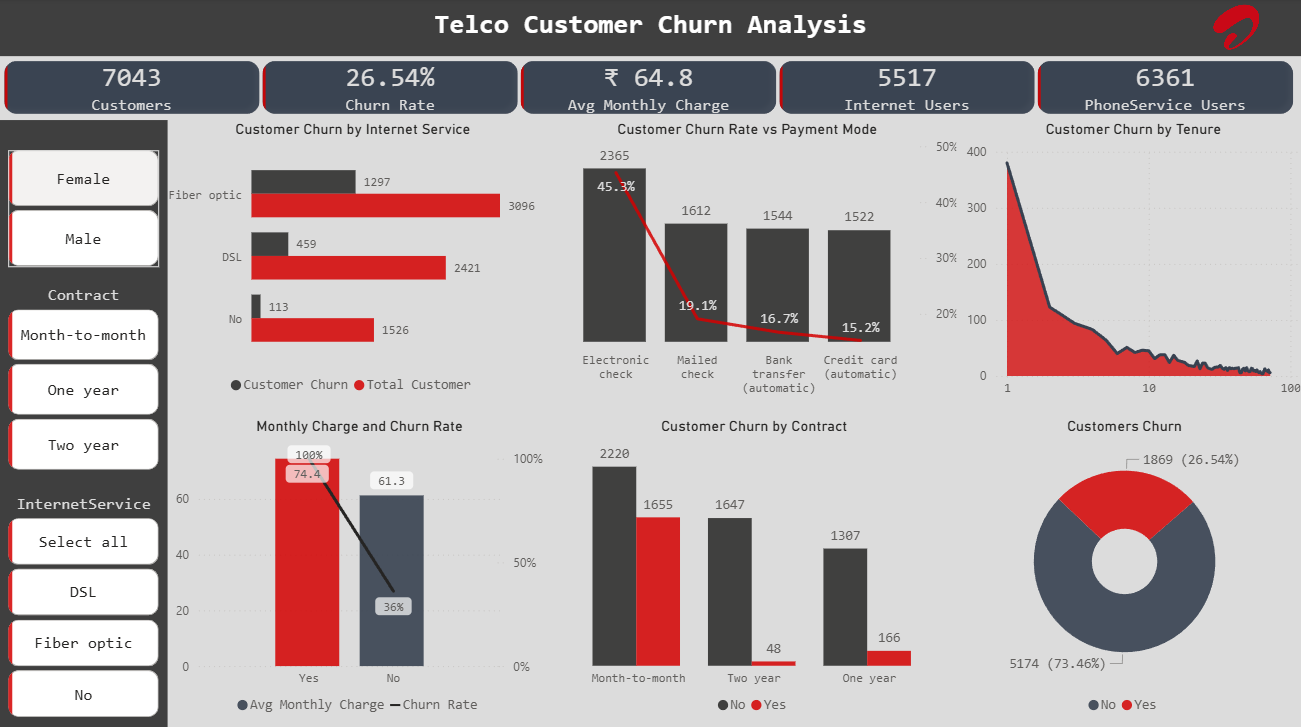

The page's visual inventory and layout, read from the dashboard file:
{"tool":"powerbi","page":{"name":"Dashboard","canvas":[1280,720],"ordinal":0},"visuals":[{"type":"shape","box":[0,120,165.7,600],"z":0},{"type":"shape","box":[0,0,1280,57.1],"z":1000},{"type":"textbox","box":[340.1,5.2,599.9,46.4],"z":2000},{"type":"cardVisual","fields":{"Data":["Count(Telco_Customer_Churn.customerID)","Telco_Customer_Churn.Churn_rate","Telco_Customer_Churn.Avg_Monthly_Charge","Telco_Customer_Churn.Internet_Users","Telco_Customer_Churn.PhoneService_user"]},"box":[0,57.1,1280,62.9],"z":3000},{"type":"clusteredBarChart","title":"Customer Churn by Internet Service","fields":{"Category":["Telco_Customer_Churn.InternetService"],"Y":["Telco_Customer_Churn.Total_Churn","CountNonNull(Telco_Customer_Churn.customerID)"]},"box":[165.7,120,365.7,274.3],"z":4000},{"type":"lineClusteredColumnComboChart","title":"Customer Churn Rate vs Payment Mode","fields":{"Category":["Telco_Customer_Churn.PaymentMethod"],"Y2":["Telco_Customer_Churn.Churn_rate"],"Y":["CountNonNull(Telco_Customer_Churn.customerID)"]},"box":[530.8,120.6,420.7,273.9],"z":5000},{"type":"clusteredColumnChart","title":"Customer Churn by Contract ","fields":{"Category":["Telco_Customer_Churn.Contract"],"Y":["CountNonNull(Telco_Customer_Churn.customerID)"],"Series":["Telco_Customer_Churn.Churn"]},"box":[537.6,411.5,408.6,297.1],"z":6000},{"type":"lineStackedColumnComboChart","title":"Monthly Charge and Churn Rate ","fields":{"Y":["Telco_Customer_Churn.Avg_Monthly_Charge"],"Y2":["Telco_Customer_Churn.Churn_rate"],"Category":["Telco_Customer_Churn.Churn"]},"box":[171.8,411.5,365.7,297.1],"z":7000},{"type":"advancedSlicerVisual","fields":{"Values":["Telco_Customer_Churn.InternetService"]},"box":[8.6,487.1,148.6,220],"z":8000},{"type":"advancedSlicerVisual","fields":{"Values":["Telco_Customer_Churn.Contract"]},"box":[8.6,282.9,148.6,182.9],"z":9000},{"type":"advancedSlicerVisual","fields":{"Values":["Telco_Customer_Churn.gender"]},"box":[8.6,150,148.6,114.3],"z":10000},{"type":"lineChart","fields":{"Category":["Telco_Customer_Churn.tenure"],"Y":["Telco_Customer_Churn.Total_Churn"]},"box":[951.4,120,328.6,274.3],"z":11000},{"type":"donutChart","title":"Customers Churn","fields":{"Category":["Telco_Customer_Churn.Churn"],"Y":["CountNonNull(Telco_Customer_Churn.customerID)"]},"box":[945.7,411.4,321.4,297.1],"z":12000},{"type":"image","box":[1153.4,0,126.4,56.8],"z":12001}]}

Visuals, with their boxes in screenshot pixels (x1, y1, x2, y2), scaled from the page's 1280x720 canvas onto the 1301x727 screenshot:
shape: (0, 121, 168, 726)
shape: (0, 0, 1300, 58)
textbox: (346, 5, 955, 52)
cardVisual - Count(Telco_Customer_Churn.customerID) x Telco_Customer_Churn.Churn_rate: (0, 58, 1300, 121)
"Customer Churn by Internet Service" clusteredBarChart: (168, 121, 540, 398)
"Customer Churn Rate vs Payment Mode" lineClusteredColumnComboChart: (540, 122, 967, 398)
"Customer Churn by Contract " clusteredColumnChart: (546, 416, 962, 715)
"Monthly Charge and Churn Rate " lineStackedColumnComboChart: (175, 416, 546, 715)
advancedSlicerVisual - Telco_Customer_Churn.InternetService: (9, 492, 160, 714)
advancedSlicerVisual - Telco_Customer_Churn.Contract: (9, 286, 160, 470)
advancedSlicerVisual - Telco_Customer_Churn.gender: (9, 151, 160, 267)
lineChart - Telco_Customer_Churn.tenure x Telco_Customer_Churn.Total_Churn: (967, 121, 1300, 398)
"Customers Churn" donutChart: (961, 415, 1288, 715)
image: (1172, 0, 1300, 57)
